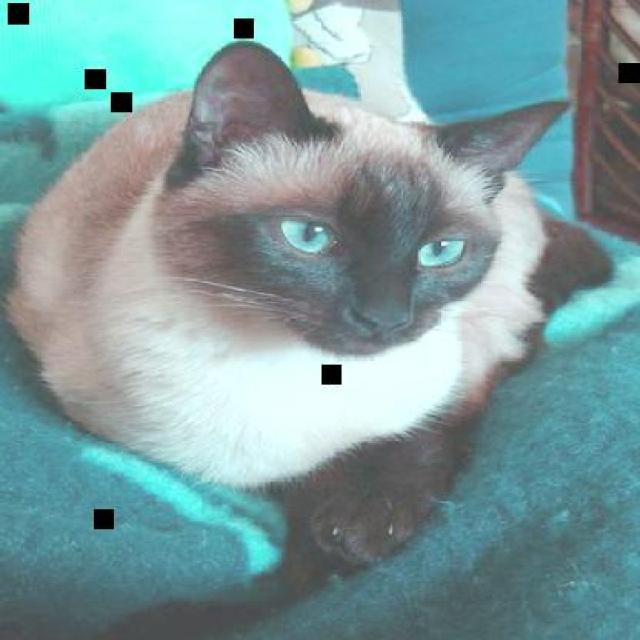cat: (11, 40, 620, 565)
